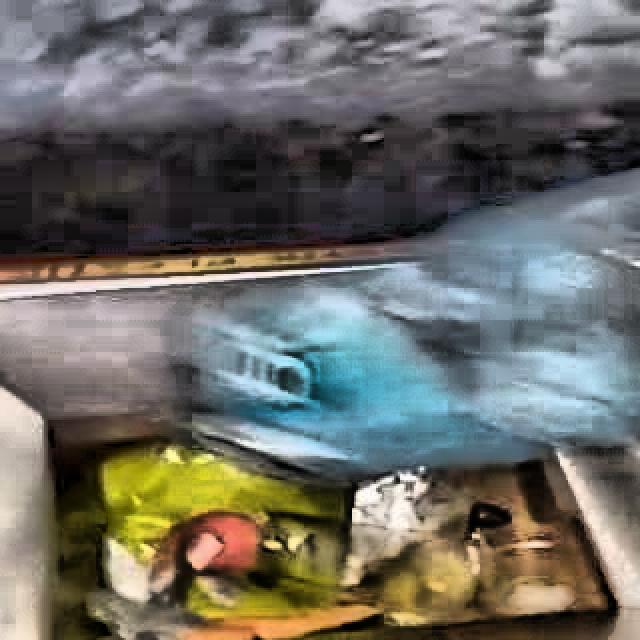plastic: (189, 171, 640, 480)
